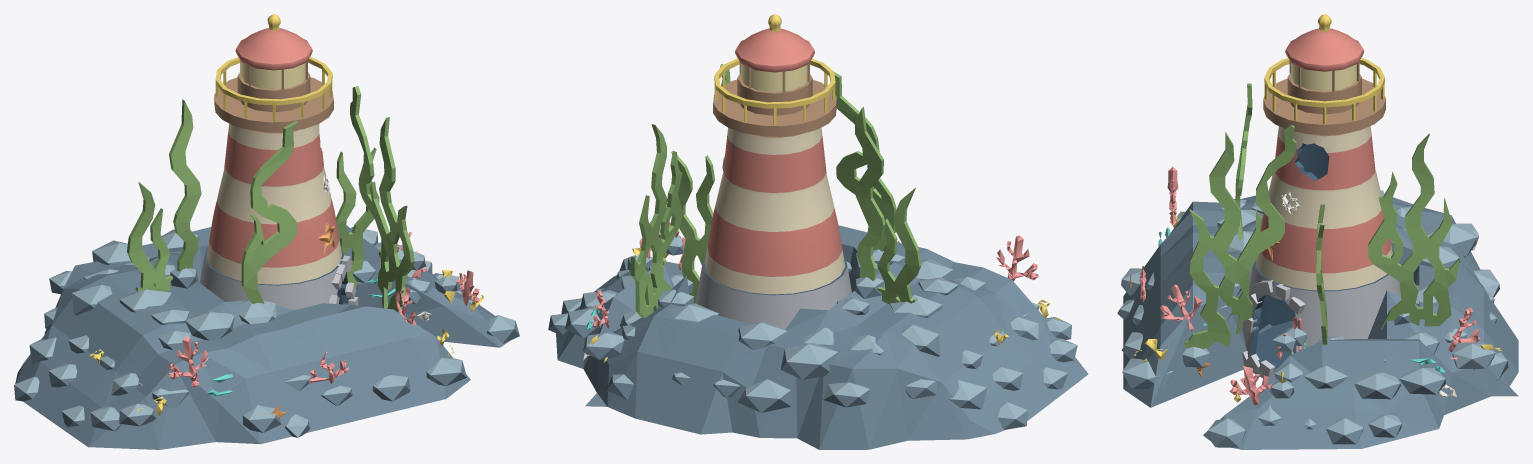
The model's file is MB_LM_Lighthouse_v3.fbx.
3 renders of one model, left to right at view 1: azimuth 30°, elevation 25°; view 2: azimuth 150°, elevation 25°; view 3: azimuth 270°, elevation 25°, orthographic. The views are drawn at different scales.
Parts seen in each view (by area): view 1: Stone, Kelp, StoneTop, Red, Cream, Deck, BaseStone, CoralPink, Gold, Glass, DoorStone, Sponge (+1 smaller); view 2: Stone, Kelp, StoneTop, Red, Cream, Deck, BaseStone, Gold, CoralPink, Glass; view 3: Stone, Kelp, Red, StoneTop, Cream, BaseStone, Deck, Dark, CoralPink, Gold, DoorStone, Glass (+1 smaller).
Boxes of the visible parts, x1,y1,x2,y2 form: Stone: (14, 226, 519, 449); Kelp: (127, 86, 414, 312); StoneTop: (14, 227, 515, 437); Red: (209, 28, 339, 267); Cream: (206, 123, 341, 284); Deck: (214, 60, 333, 133); BaseStone: (199, 255, 346, 309); CoralPink: (168, 232, 479, 387); Gold: (215, 14, 332, 121); Glass: (241, 61, 305, 89); DoorStone: (329, 255, 358, 305); Sponge: (90, 269, 483, 415); Stone: (548, 225, 1088, 449); Kelp: (630, 64, 921, 318); StoneTop: (551, 234, 1077, 418); Red: (707, 28, 842, 276); Cream: (704, 127, 845, 294); Deck: (713, 62, 836, 137); BaseStone: (695, 263, 851, 329); Gold: (714, 14, 835, 125); CoralPink: (593, 221, 1038, 328); Glass: (740, 63, 807, 92); Stone: (1117, 195, 1518, 449); Kelp: (1184, 83, 1459, 348); Red: (1260, 28, 1390, 273); StoneTop: (1120, 190, 1507, 436); Cream: (1256, 126, 1392, 290); BaseStone: (1242, 264, 1400, 378); Deck: (1263, 61, 1385, 136); Dark: (1249, 143, 1388, 368); CoralPink: (1139, 167, 1480, 405); Gold: (1264, 14, 1384, 123); DoorStone: (1242, 280, 1305, 377); Glass: (1290, 62, 1356, 91).
Bounding box in the file's own units: 21209 × 15012 × 16139.
